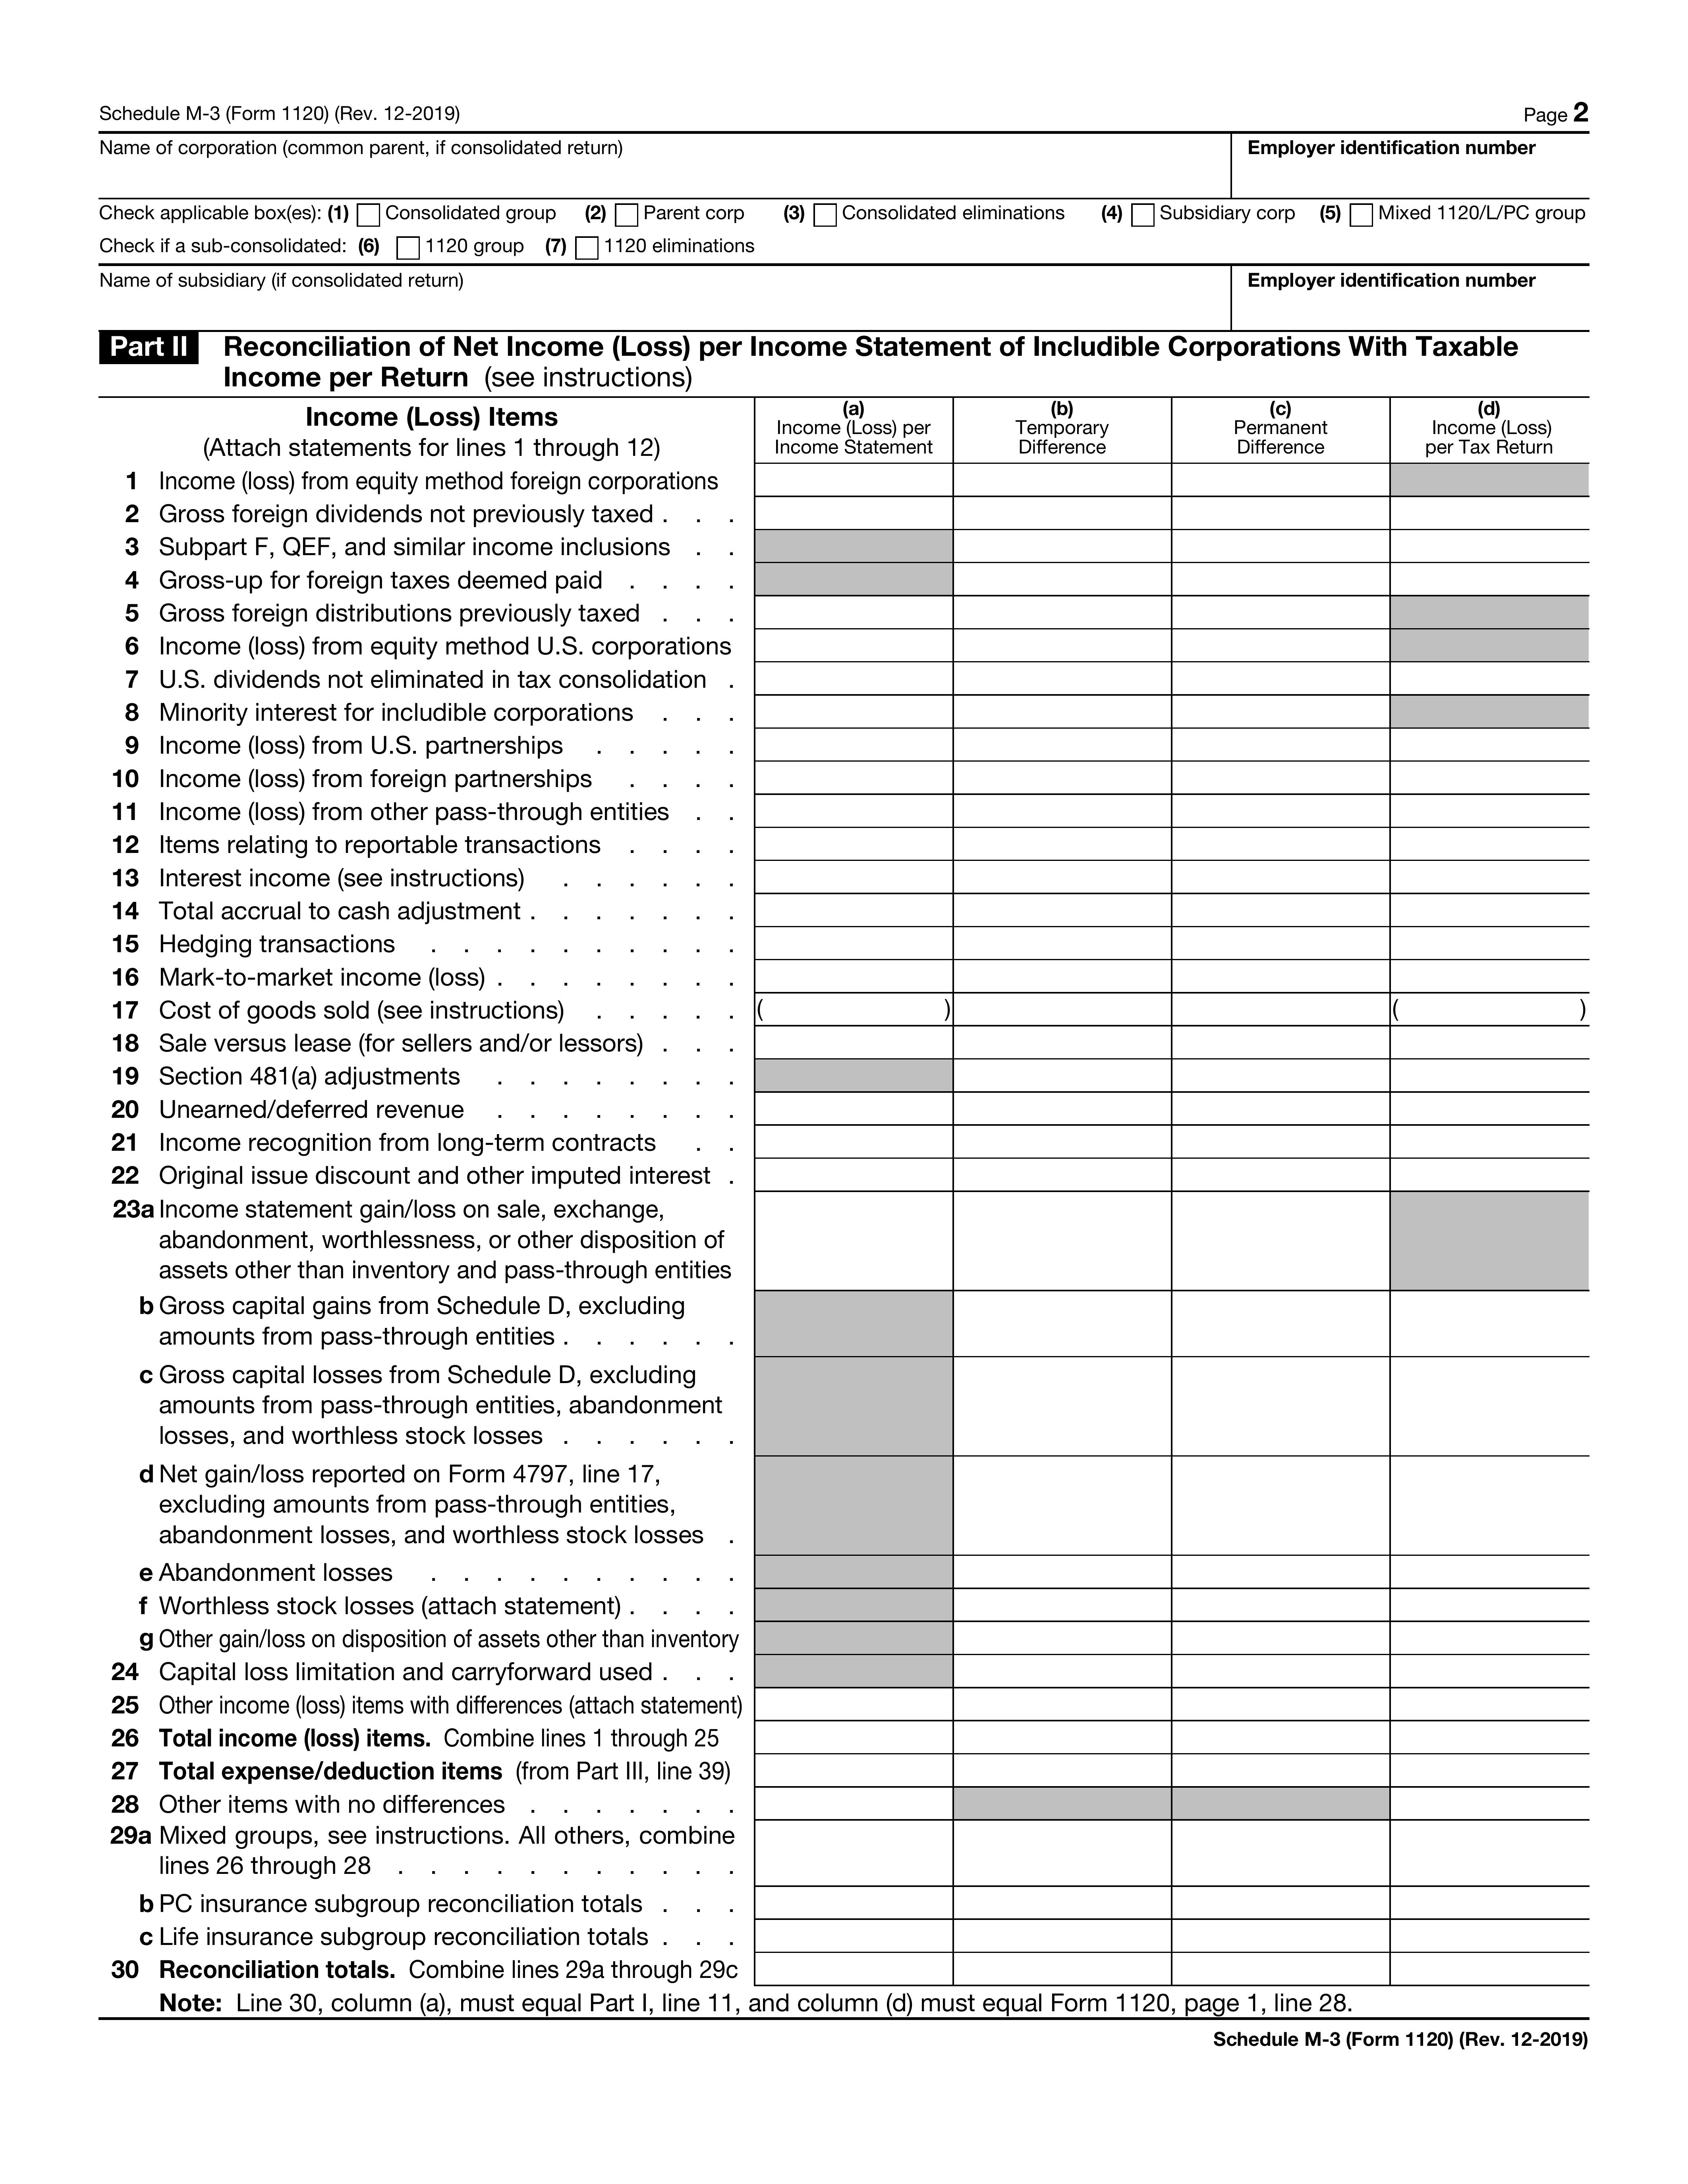form: (83, 128, 1605, 328)
table: (89, 394, 1628, 2026)
